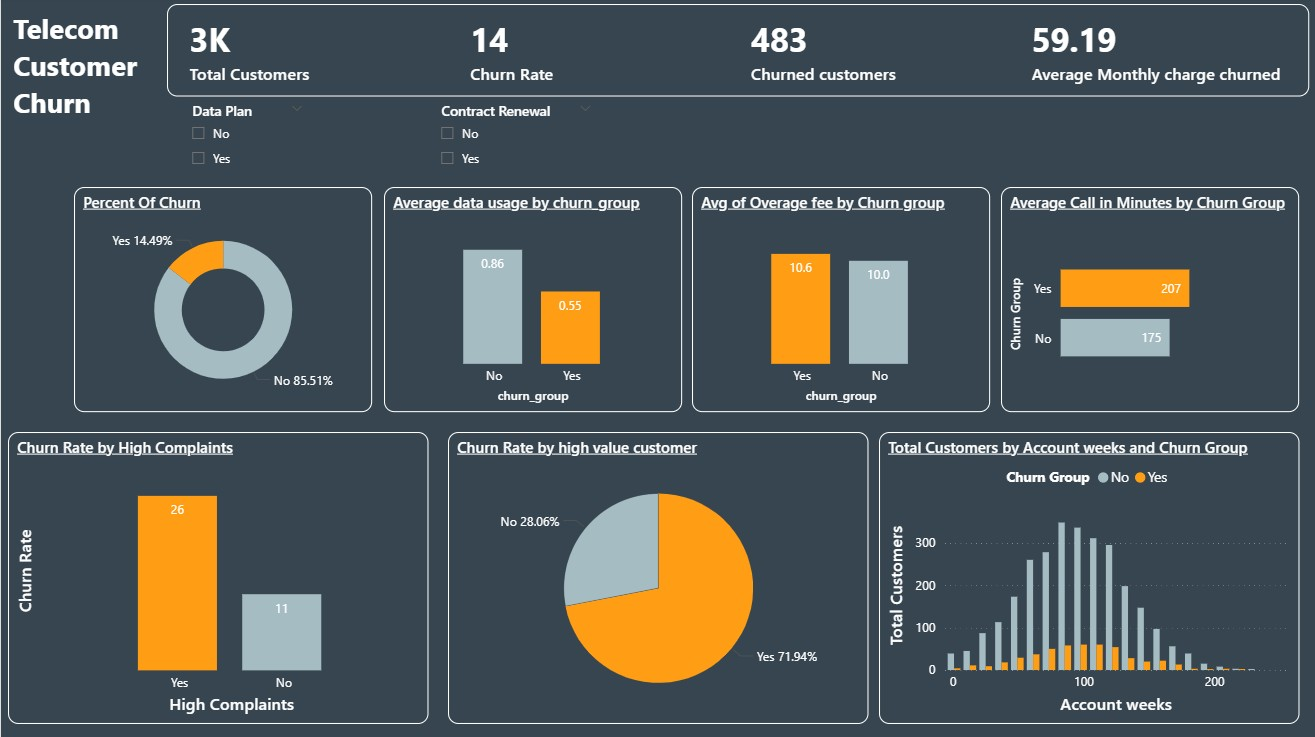

The page's visual inventory and layout, read from the dashboard file:
{"tool":"powerbi","page":{"name":"Page 1","canvas":[1280,720],"ordinal":0},"visuals":[{"type":"cardVisual","fields":{"Data":["transformed_Churn_file.Total Customers","transformed_Churn_file.Churn Rate","transformed_Churn_file.churned customers","transformed_Churn_file.Average Monthly charge churned"]},"box":[161.6,6.4,1111,90.4],"z":0},{"type":"donutChart","title":"Percent Of Churn","fields":{"Category":["transformed_Churn_file.churn_group"],"Y":["CountNonNull(transformed_Churn_file.churn)"]},"box":[71.2,185,290.2,219],"z":1000},{"type":"clusteredColumnChart","fields":{"Category":["transformed_Churn_file.high_complaints"],"Y":["transformed_Churn_file.Churn Rate"]},"box":[6.4,423.1,409.3,283.9],"z":2000},{"type":"pieChart","fields":{"Category":["transformed_Churn_file.high_value_customer"],"Y":["transformed_Churn_file.Churn Rate"]},"box":[434.8,423.1,409.3,283.9],"z":3000},{"type":"clusteredBarChart","fields":{"Category":["transformed_Churn_file.churn_group"],"Y":["Avg(transformed_Churn_file.day_mins)"]},"box":[972.8,185,290.2,219],"z":4000},{"type":"clusteredColumnChart","title":"Avg of Overage fee by Churn group","fields":{"Y":["Avg(transformed_Churn_file.overage_fee)"],"Category":["transformed_Churn_file.Churn Group"]},"box":[671.9,185,290.2,219],"z":5000},{"type":"clusteredColumnChart","fields":{"Category":["transformed_Churn_file.Account weeks"],"Y":["transformed_Churn_file.Total Customers","select"],"Series":["transformed_Churn_file.Churn Group"]},"box":[853.7,423.1,409.3,283.9],"z":6000},{"type":"textbox","box":[6.4,6.4,139.3,174.4],"z":7000},{"type":"slicer","fields":{"Values":["transformed_Churn_file.Data Plan"]},"box":[173.3,96.7,132.9,80.8],"z":8000},{"type":"clusteredColumnChart","fields":{"Category":["transformed_Churn_file.Churn Group"],"Y":["Avg(transformed_Churn_file.data_usage)"]},"box":[372.1,185,290.2,219],"z":9000},{"type":"slicer","fields":{"Values":["transformed_Churn_file.Contract Renewal"]},"box":[415.7,96.7,171.2,84],"z":10000}]}

Visuals, with their boxes in screenshot pixels (x1, y1, x2, y2), scaled from the page's 1280x720 canvas onto the 1315x737 screenshot:
cardVisual - transformed_Churn_file.Total Customers x transformed_Churn_file.Churn Rate: 166 7 1307 99
"Percent Of Churn" donutChart: 73 189 371 414
clusteredColumnChart - transformed_Churn_file.high_complaints x transformed_Churn_file.Churn Rate: 7 433 427 724
pieChart - transformed_Churn_file.high_value_customer x transformed_Churn_file.Churn Rate: 447 433 867 724
clusteredBarChart - transformed_Churn_file.churn_group x Avg(transformed_Churn_file.day_mins): 999 189 1298 414
"Avg of Overage fee by Churn group" clusteredColumnChart: 690 189 988 414
clusteredColumnChart - transformed_Churn_file.Account weeks x transformed_Churn_file.Total Customers: 877 433 1298 724
textbox: 7 7 150 185
slicer - transformed_Churn_file.Data Plan: 178 99 315 182
clusteredColumnChart - transformed_Churn_file.Churn Group x Avg(transformed_Churn_file.data_usage): 382 189 680 414
slicer - transformed_Churn_file.Contract Renewal: 427 99 603 185
